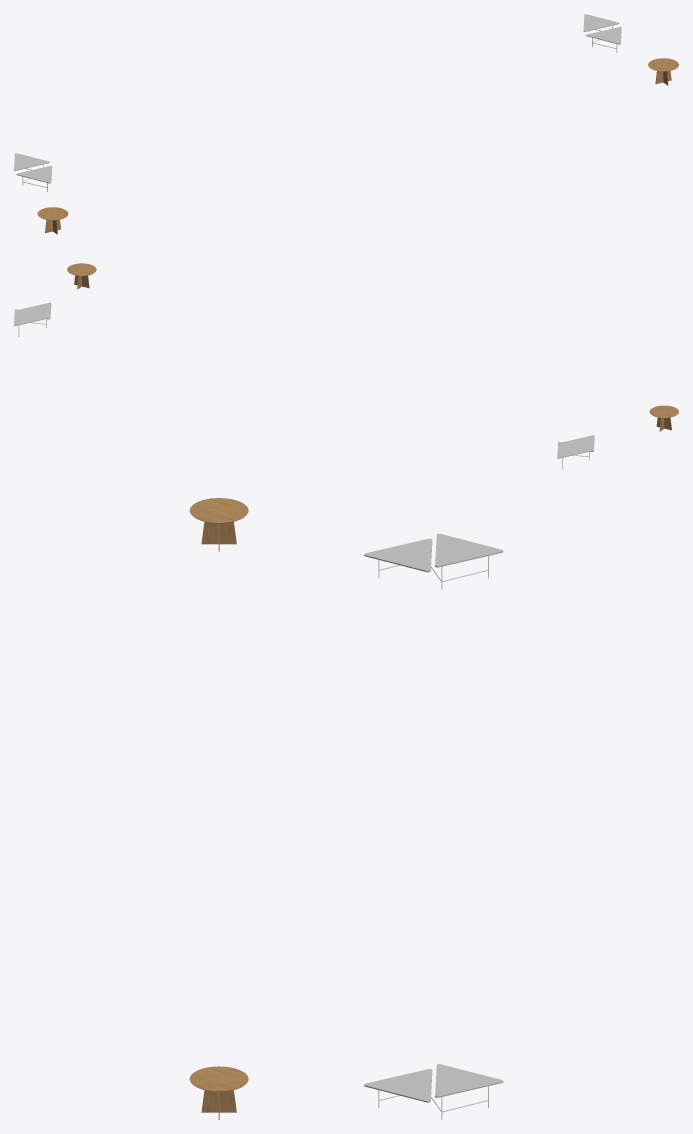
The model's file is MeshBaker (3)-mesh-mesh.fbx.
3 renders of one model, top to bottom at view 1: azimuth 30°, elevation 25°; view 2: azimuth 150°, elevation 25°; view 3: azimuth 270°, elevation 25°, orthographic. The views are drawn at different scales.
Parts seen in each view (by area): view 1: MeshBaker__3__mesh_mesh; view 2: MeshBaker__3__mesh_mesh; view 3: MeshBaker__3__mesh_mesh.
Boxes of the visible parts, x1,y1,x2,y2 form: MeshBaker__3__mesh_mesh: (14,14,678,234); MeshBaker__3__mesh_mesh: (14,263,678,469); MeshBaker__3__mesh_mesh: (189,498,503,1119).
Size of the model in its own units: 2561 by 67.93 by 572.
